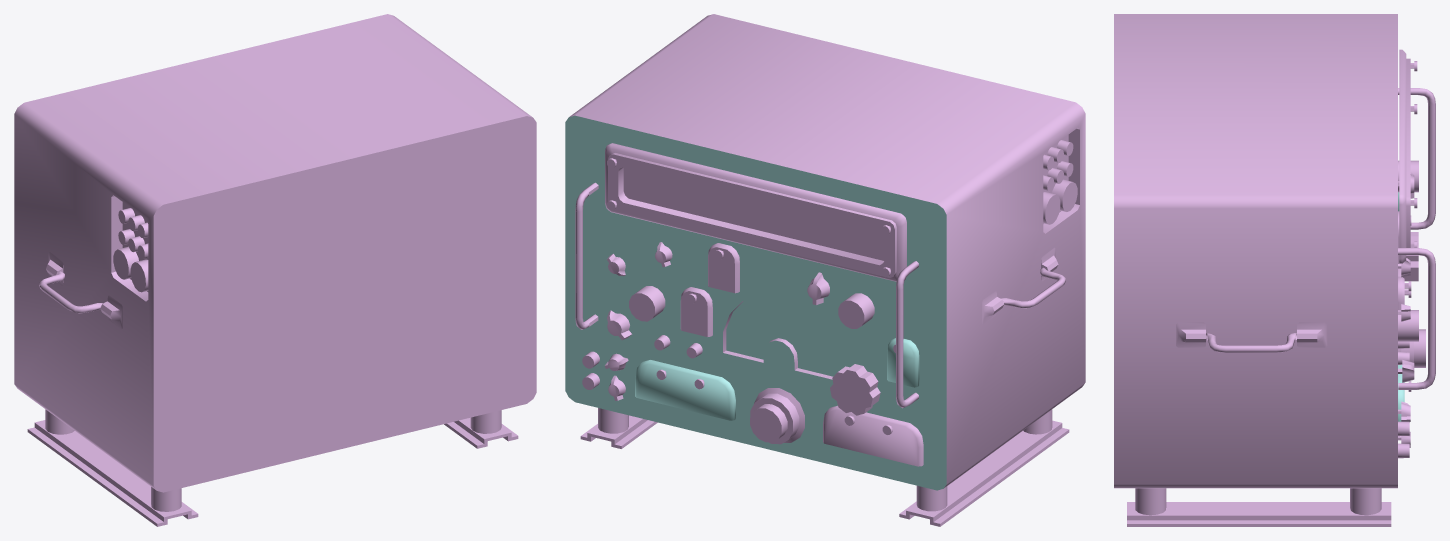
File: radiostation1.fbx
3 renders of one model, left to right at view 1: azimuth 30°, elevation 25°; view 2: azimuth 150°, elevation 25°; view 3: azimuth 270°, elevation 25°, orthographic. The views are drawn at different scales.
Parts seen in each view (by area): view 1: m33_radiostation_01; view 2: m33_radiostation_01; view 3: m33_radiostation_01.
Boxes of the visible parts, <box> form: m33_radiostation_01: <box>14,14,536,526</box>; m33_radiostation_01: <box>565,14,1085,526</box>; m33_radiostation_01: <box>1114,14,1435,526</box>.
Size of the model in its own units: 162 by 113 by 99.02.
